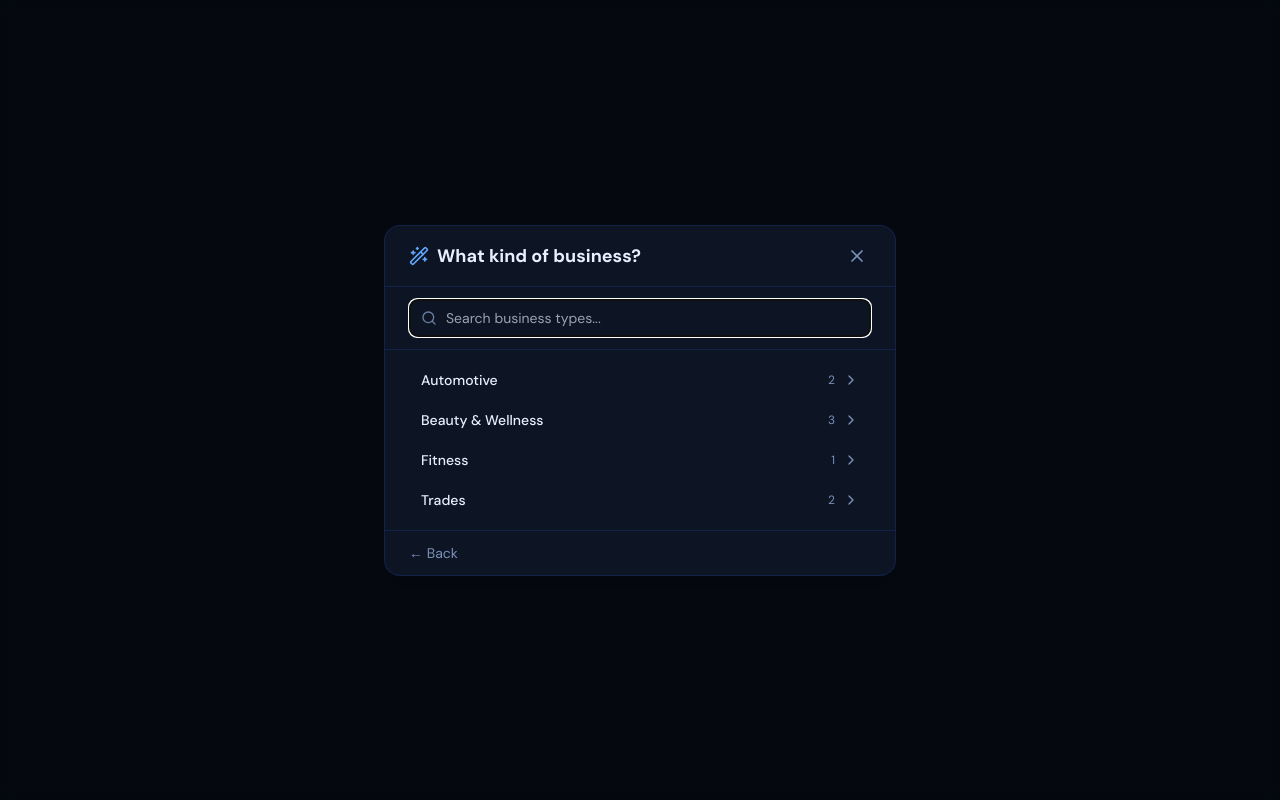
it: BusinessTypePicker › Happy Paths › collapses category on second click
Click the text "Beauty & Wellness" at (482, 420), box [421, 410, 544, 430]
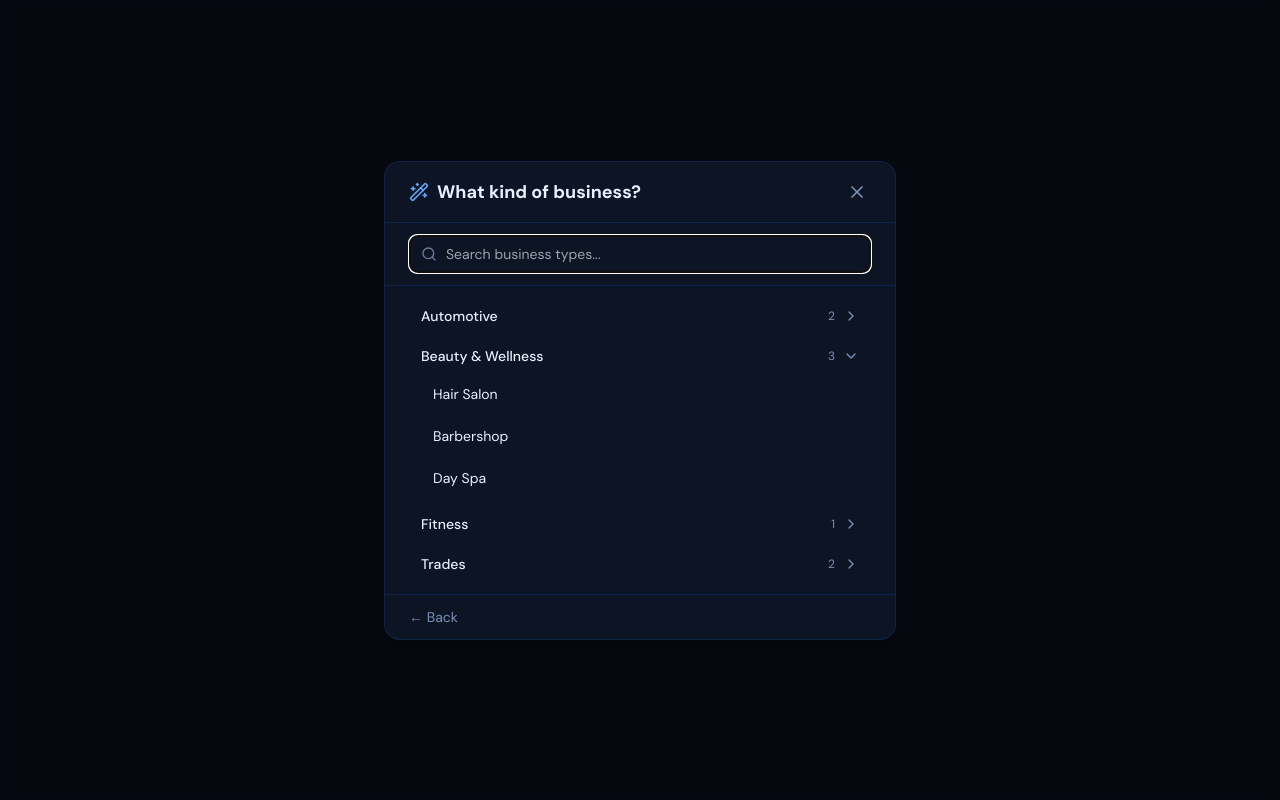
Result: the text "Hair Salon" is shown at [433, 384, 498, 402]
Click the text "Beauty & Wellness" at (482, 356), box [421, 346, 544, 366]
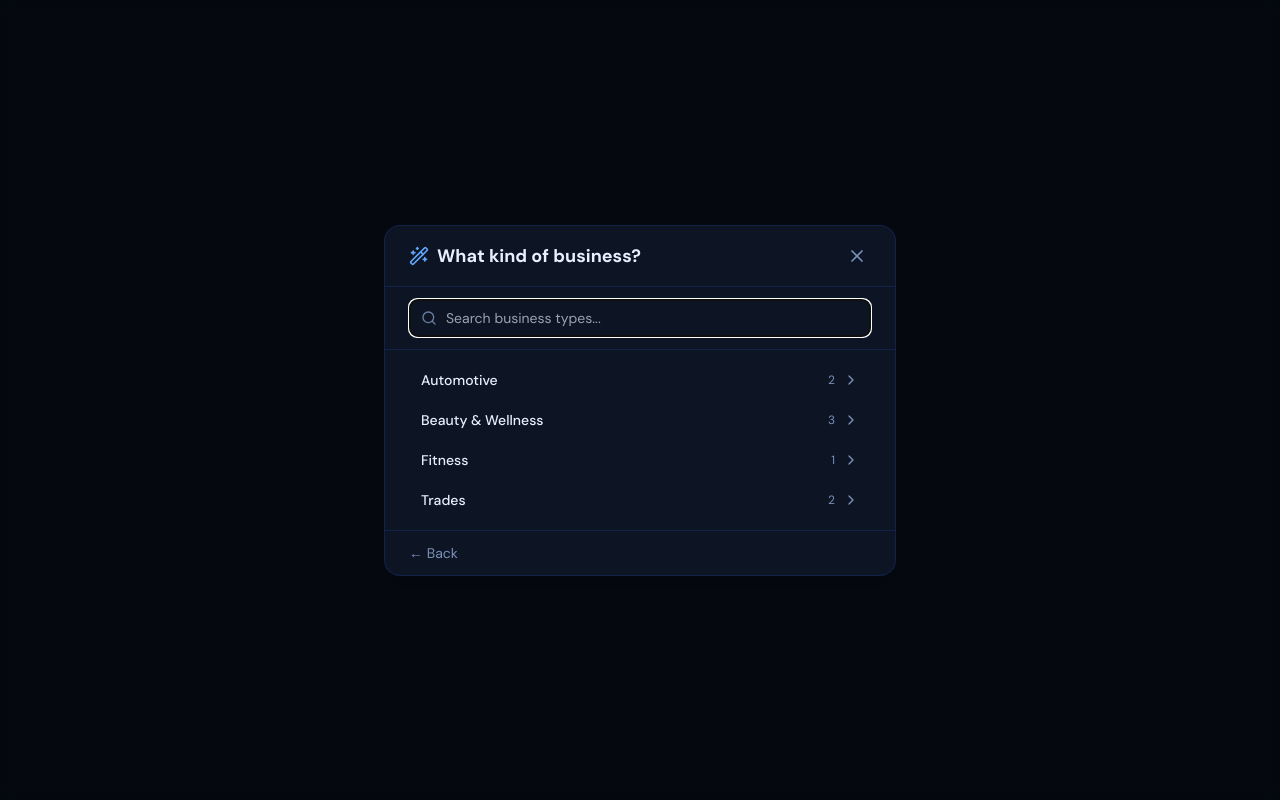
Result: the button "Hair Salon" is gone
